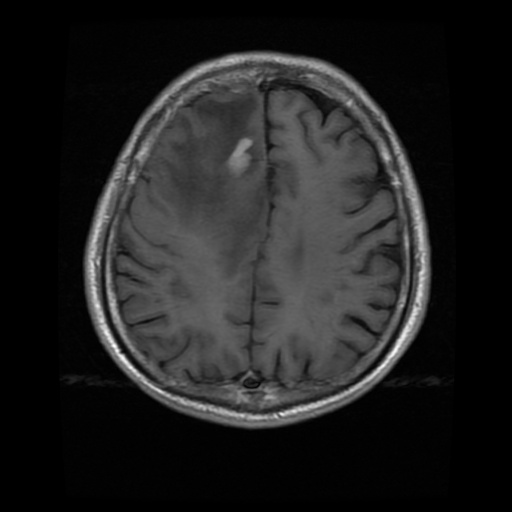glioma: (157, 92, 265, 277)
